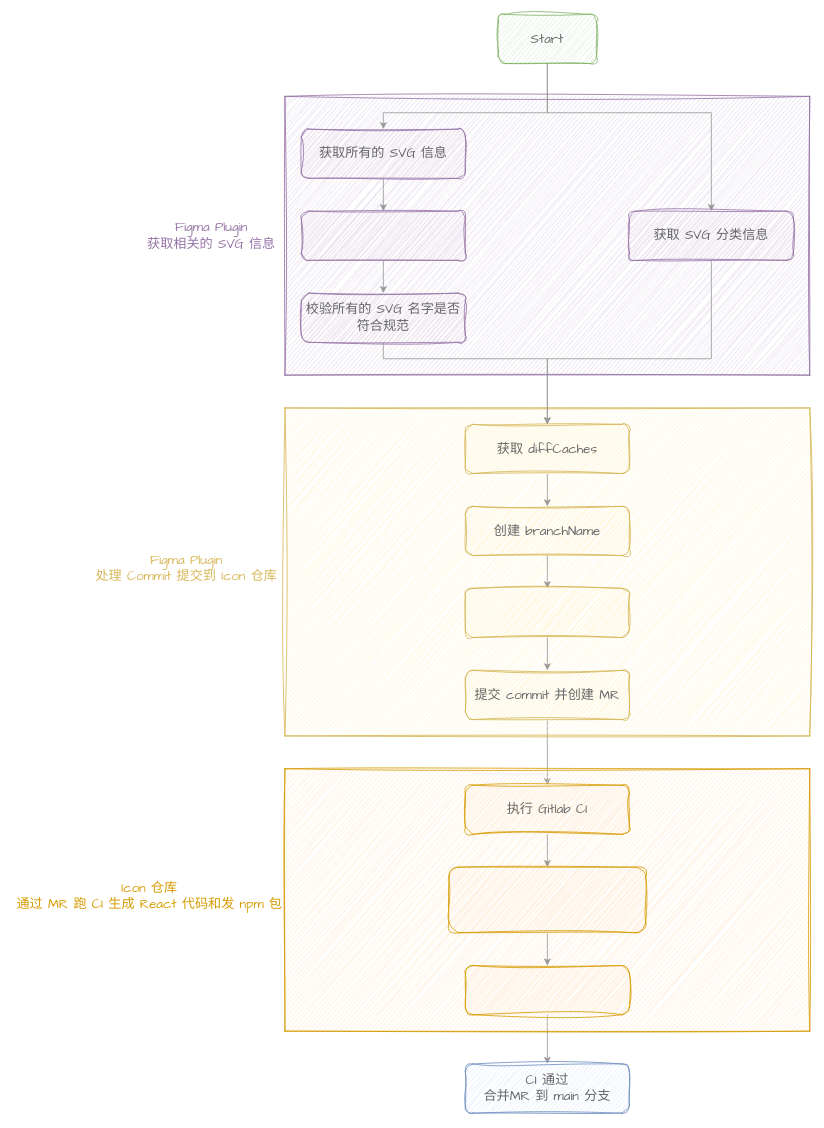
Image size: 824x1128. Some labels were removed from this diagram. The shapes that lost their labels are listed below. From the top down, each one's box as (x1, y1, x2, y2) in pixels, then its label:
(301, 210, 465, 260): 判断是否存在同名的 SVG
(465, 588, 629, 638): 生成 commit 信息
(448, 866, 646, 933): 执行 pnpm generate 将所有的 SVG 生成 React 提交到当前分支
(465, 965, 629, 1015): 部署 website 发布 npm 包
